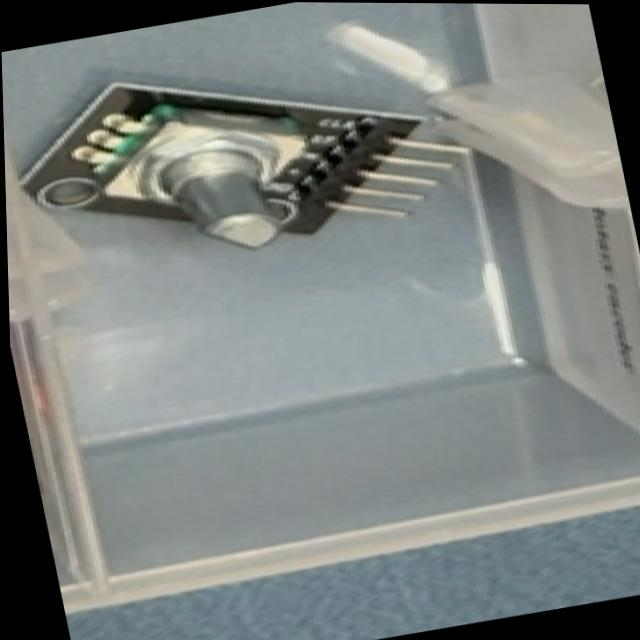Rotary Encoder: (7, 24, 487, 288)
